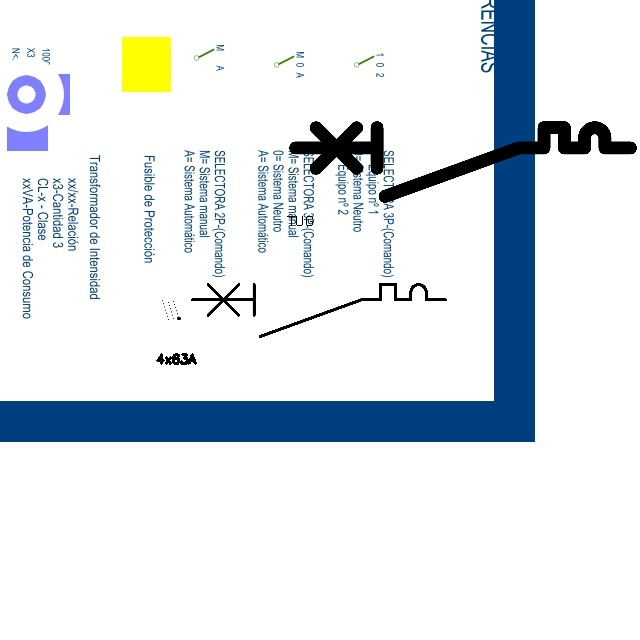interruptor_termomagnetico: (287, 119, 639, 205), (186, 278, 452, 343)
